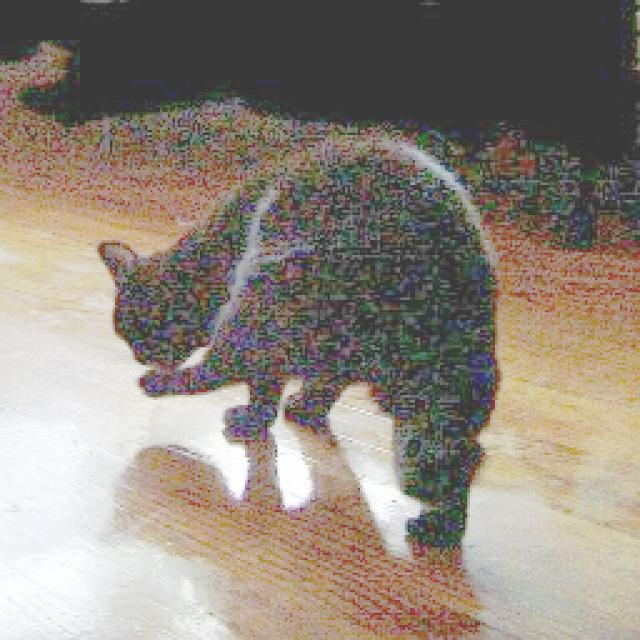cat: (90, 133, 504, 562)
